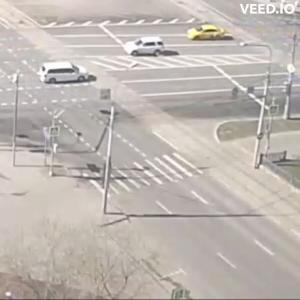car: (41, 62, 97, 86), (123, 36, 166, 59), (189, 24, 231, 42)
